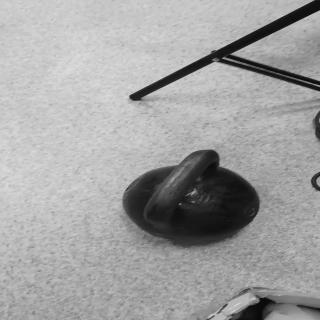kettlebell: (124, 150, 263, 238)
